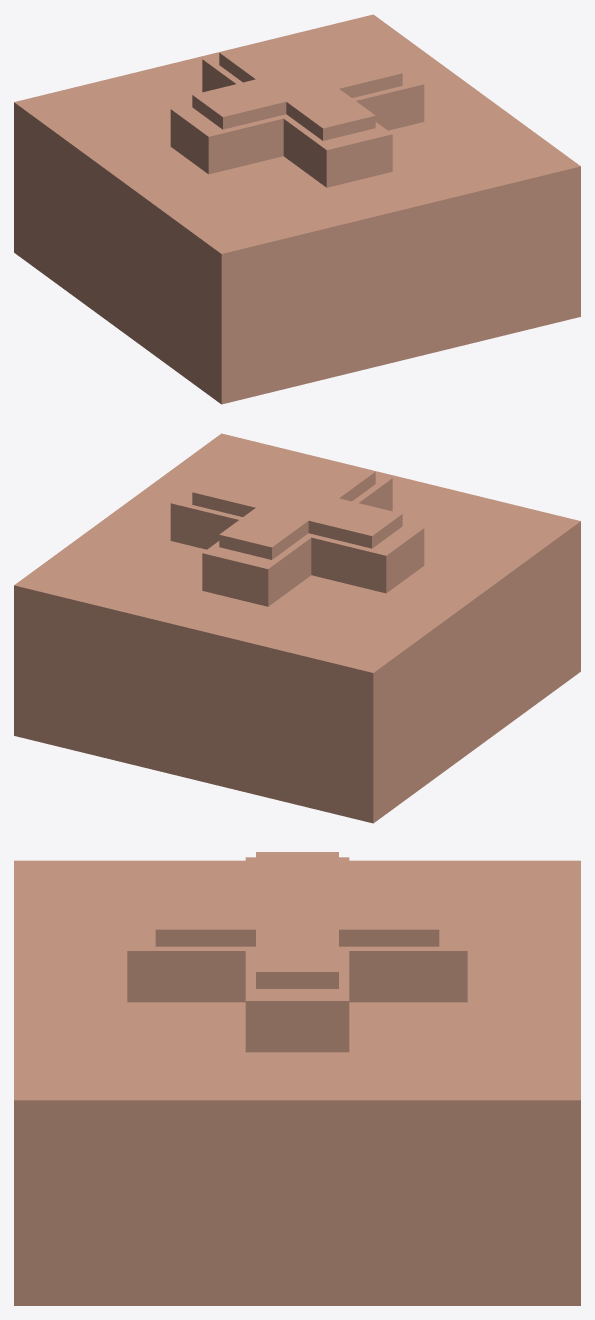
The model's file is ethiopian.glb.
3 renders of one model, top to bottom at view 1: azimuth 30°, elevation 25°; view 2: azimuth 150°, elevation 25°; view 3: azimuth 270°, elevation 25°, orthographic. The views are drawn at different scales.
Parts seen in each view (by area): view 1: Ethiopian_Church; view 2: Ethiopian_Church; view 3: Ethiopian_Church.
Part boxes in pixels (left/top/right/bottom): Ethiopian_Church: left=14, top=14, right=580, bottom=404; Ethiopian_Church: left=14, top=433, right=580, bottom=823; Ethiopian_Church: left=14, top=852, right=580, bottom=1305.
Bounding box in the file's own units: 6 × 3.2 × 6.
